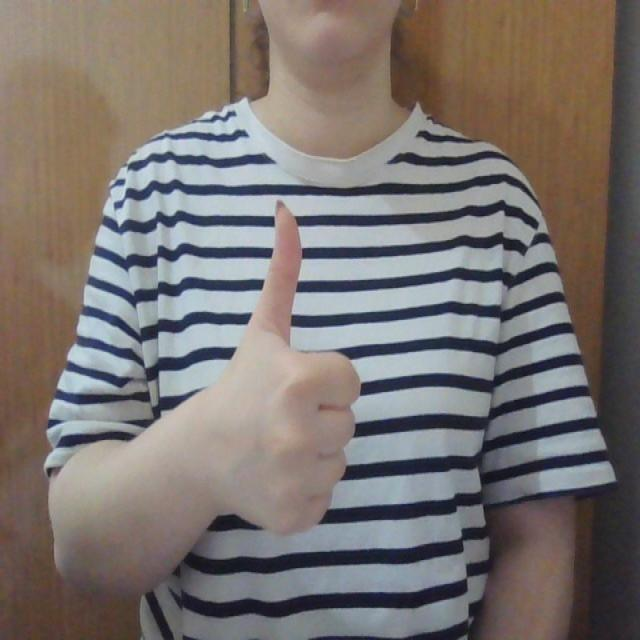Tamam: (206, 192, 371, 538)
